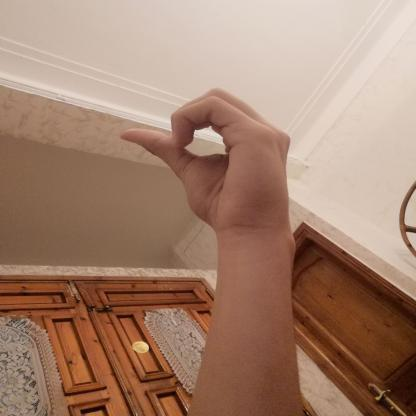WAW: (105, 77, 312, 246)
